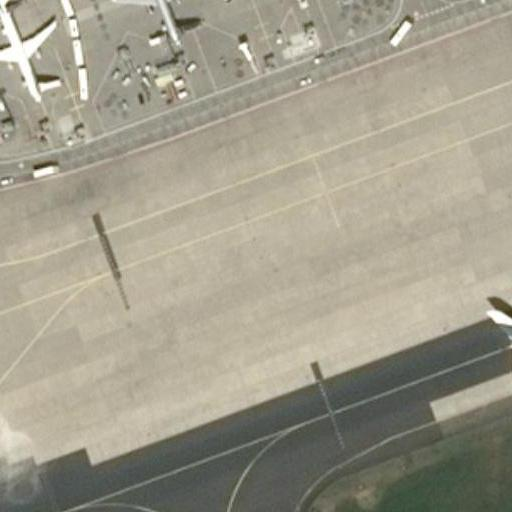Aircraft: (479, 219, 512, 424), (0, 0, 58, 105), (103, 0, 199, 45)
